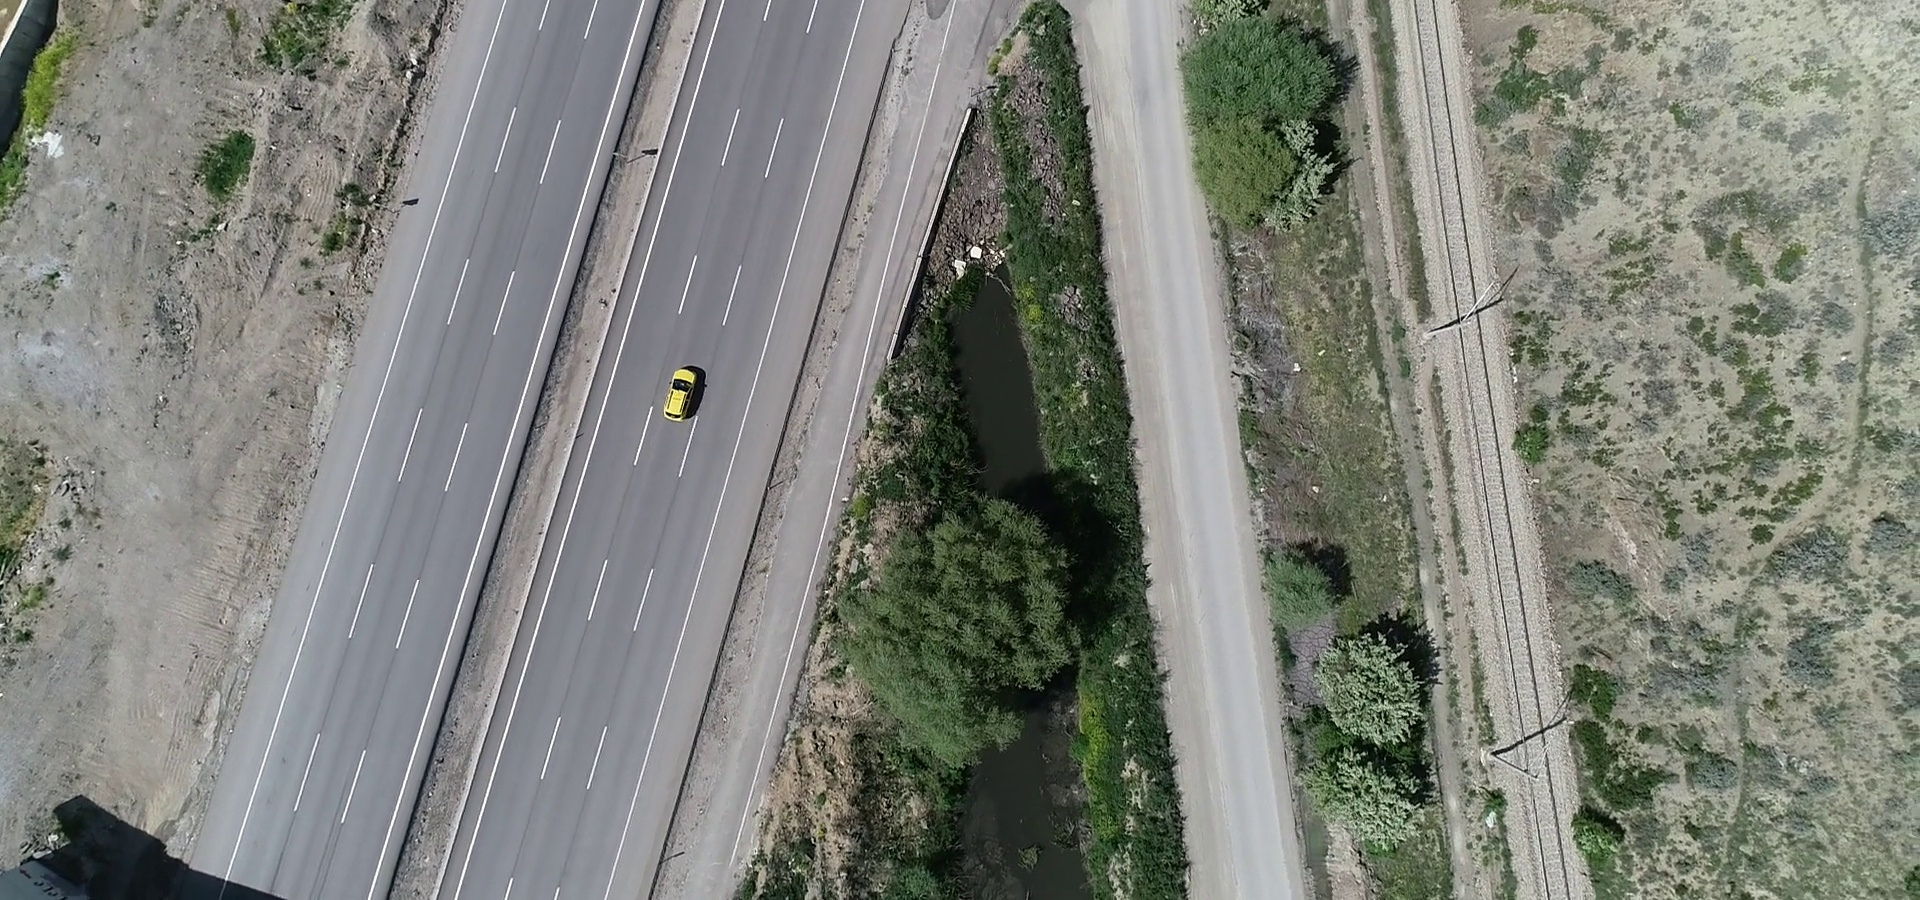araba: (660, 358, 711, 419)
